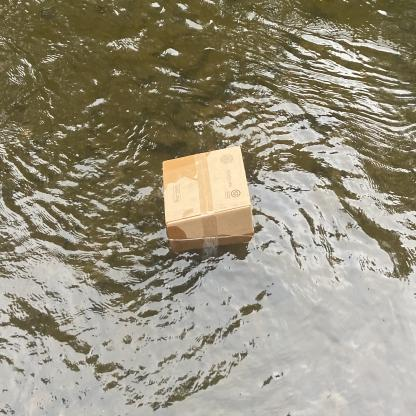trash: (158, 138, 260, 252)
